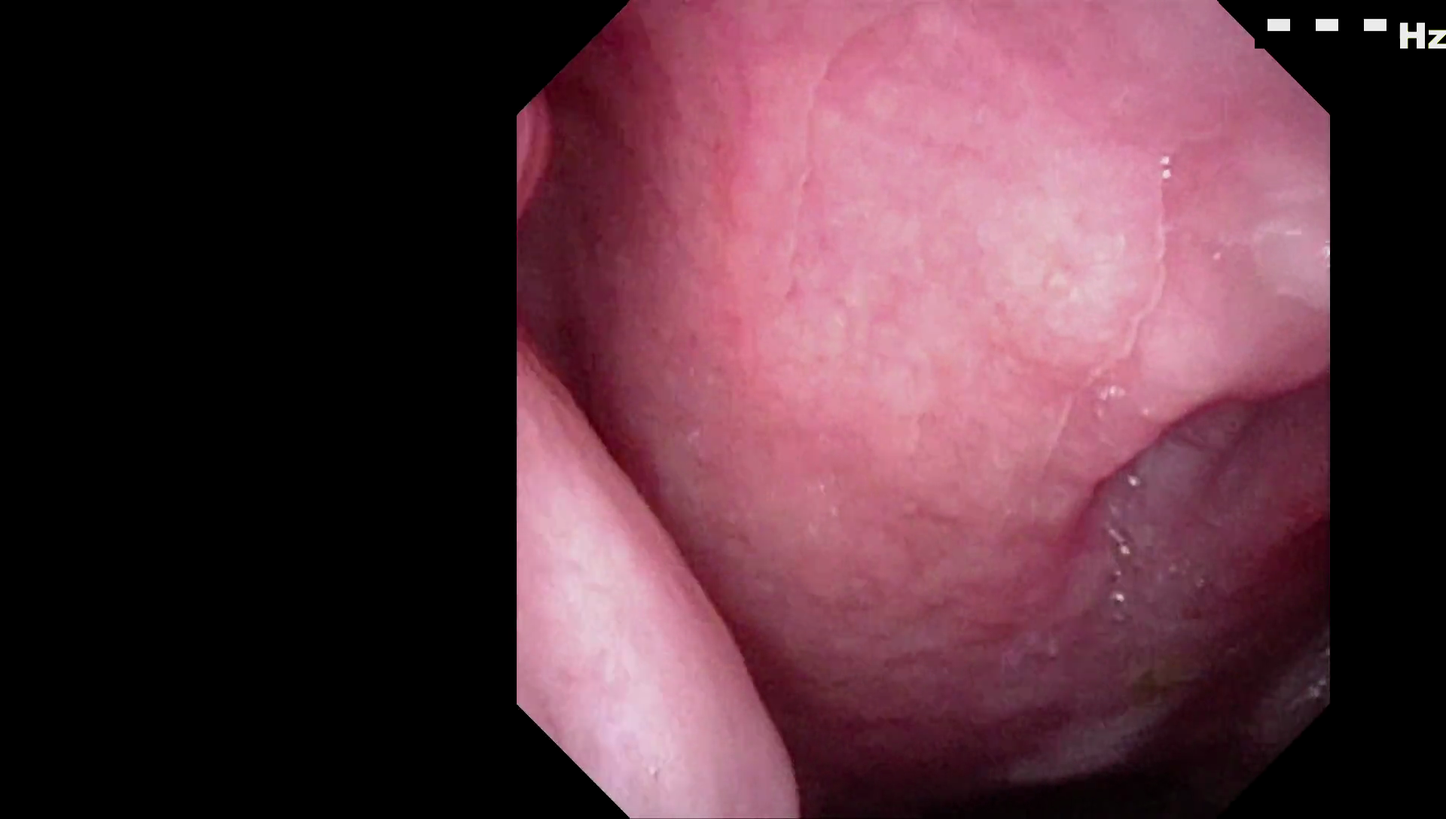close_wall: (727, 53, 1247, 491), (527, 388, 745, 817)
next: (1052, 642, 1272, 802)
